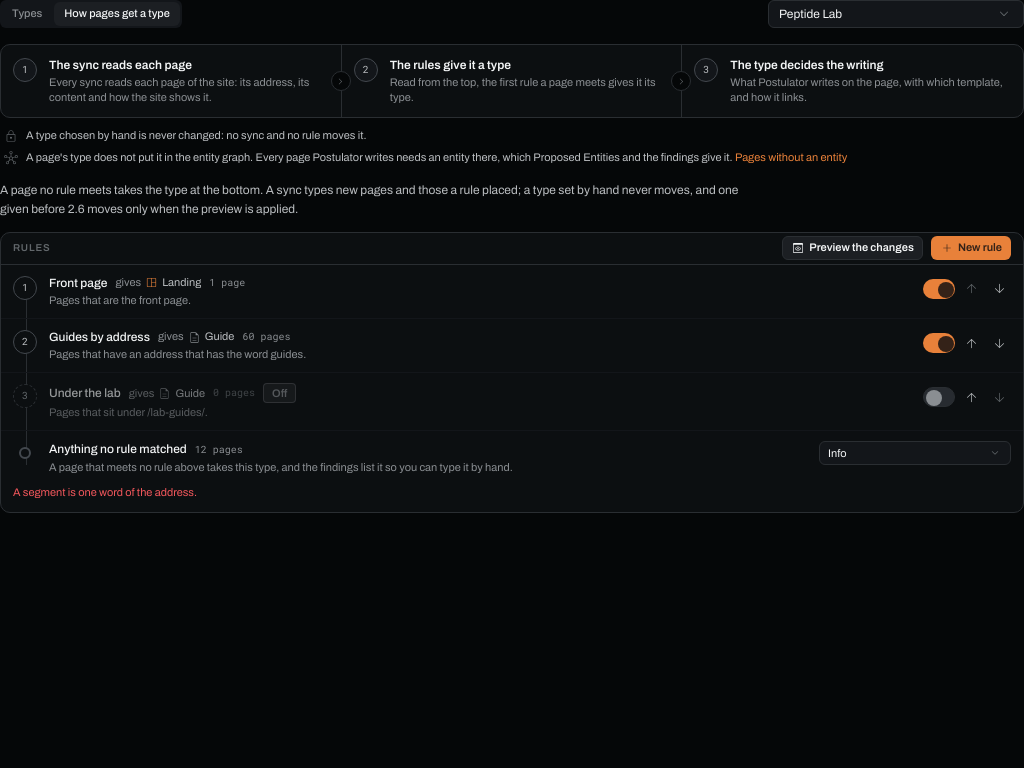
Settings, Page types, how pages get a type › shows Go's refusal beside the address it names
What coordinates should you click on to do the following:
click the button with aria-label "Edit Guides by address"
I would click on:
 (99, 337)
Its box is [49, 329, 911, 362].
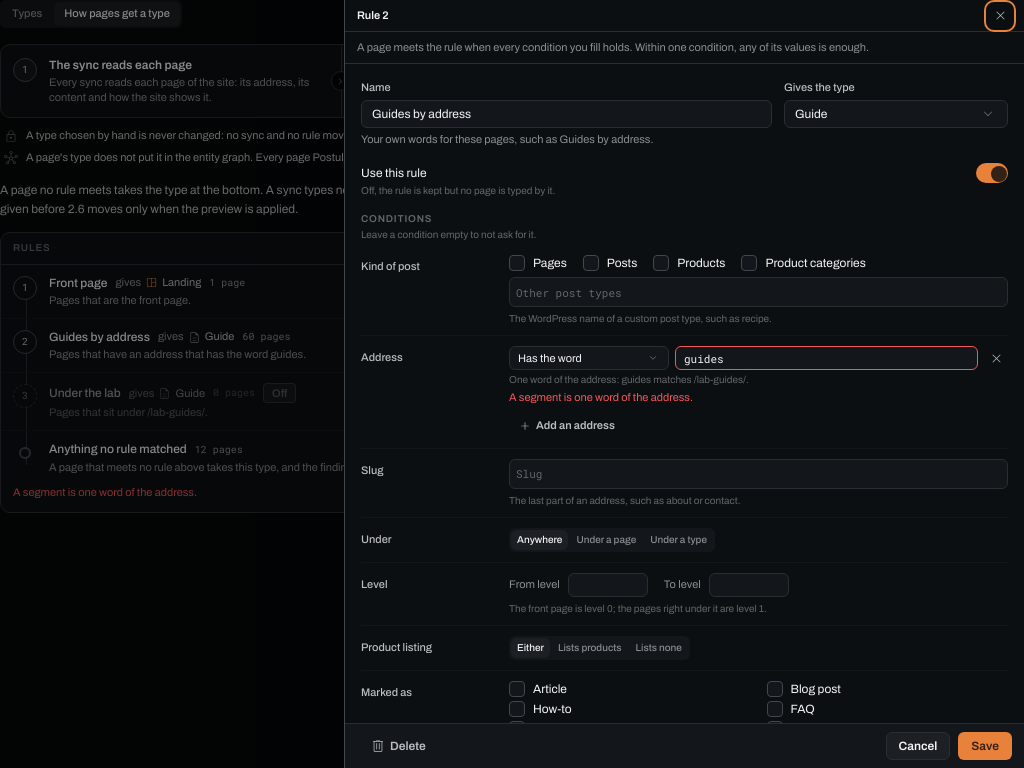
expect the text "A segment is one word of the address." is shown: met, box [509, 391, 693, 403]
